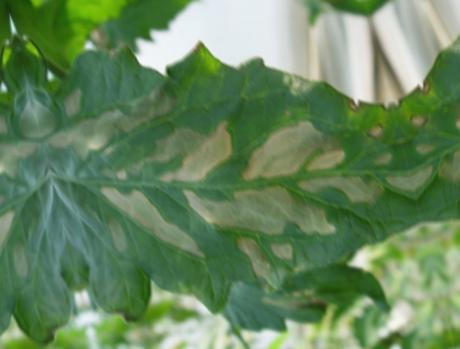Tomato leaf bacterial spot: (26, 0, 428, 341)
